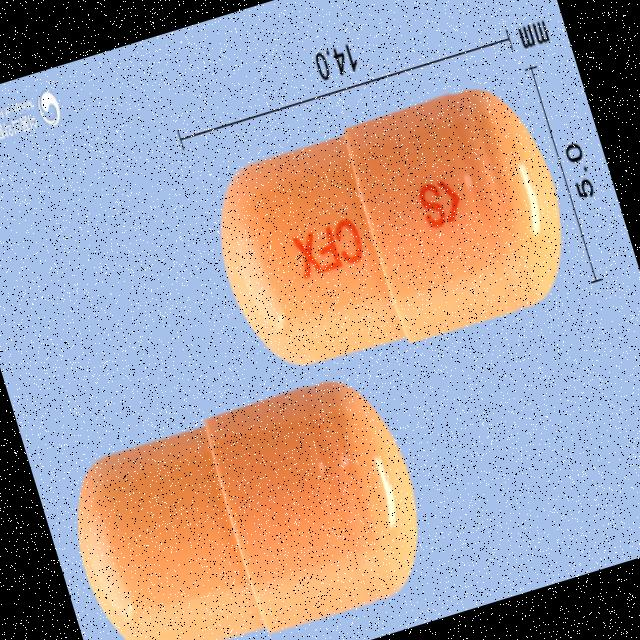Supric Cap: (196, 72, 587, 392), (52, 370, 443, 640)
